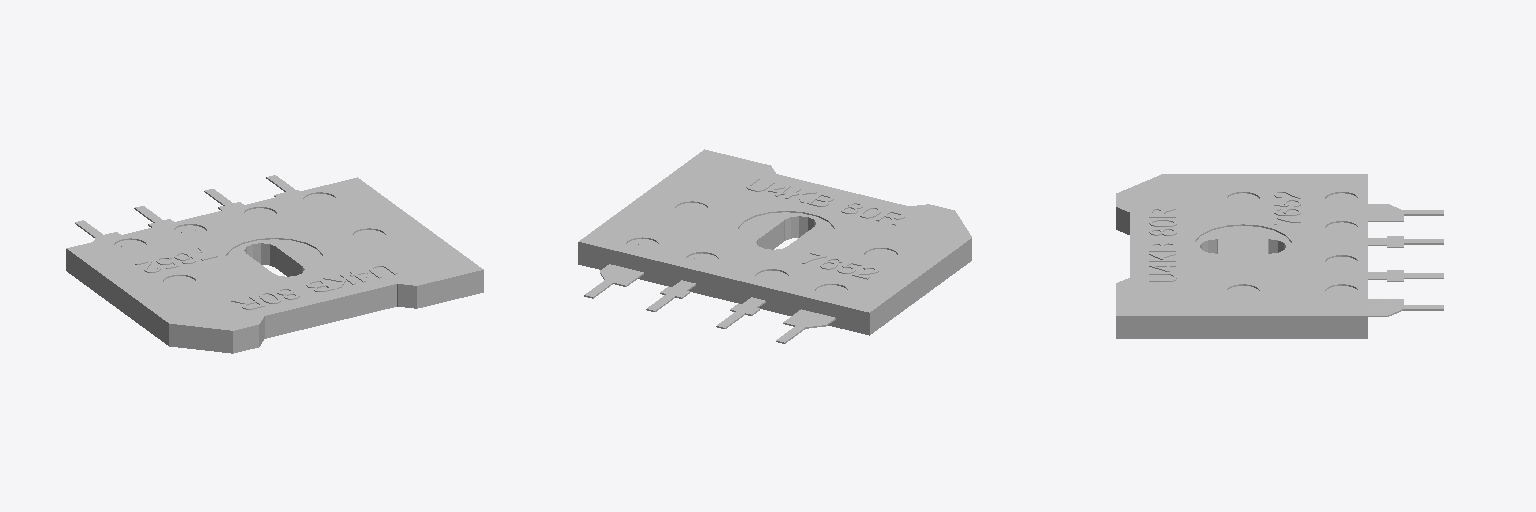
Rendered from rectifier.obj.
3 views of the same model, side by side, from view 1: azimuth 30°, elevation 25°; view 2: azimuth 150°, elevation 25°; view 3: azimuth 270°, elevation 25° (orthographic).
Parts seen in each view (by area): view 1: Box001, TextPlus001; view 2: Box001, TextPlus001; view 3: Box001, TextPlus001.
Boxes of the visible parts, x1,y1,x2,y2 form: Box001: [66, 177, 483, 353]; TextPlus001: [231, 265, 397, 309]; Box001: [578, 149, 971, 335]; TextPlus001: [746, 178, 904, 225]; Box001: [1116, 174, 1367, 338]; TextPlus001: [1149, 207, 1176, 281].
Size of the model in its own units: 20 by 1.57 by 19.55.